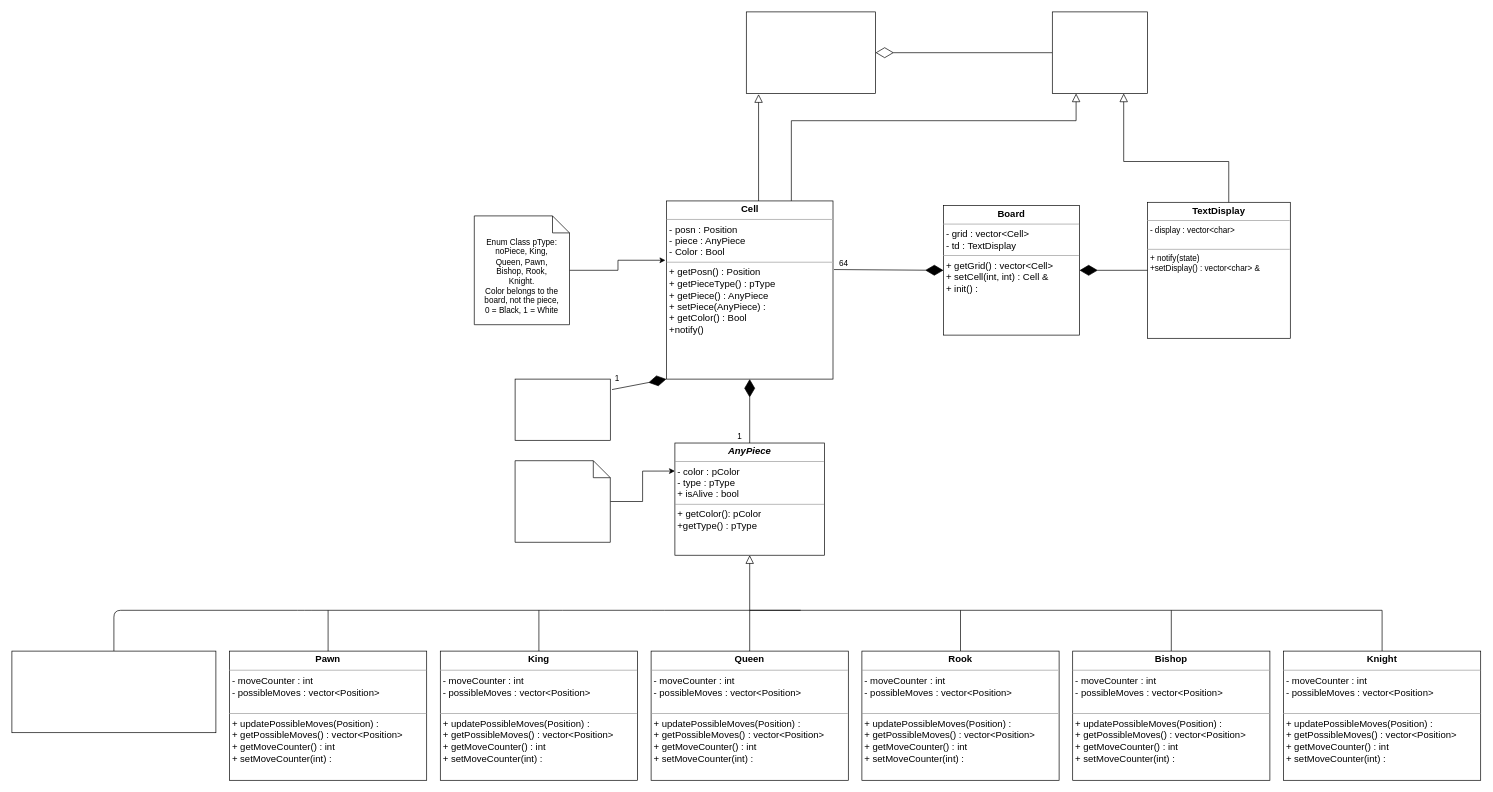
The diagram is 1493 pixels wide and 792 high, and some of its shapes have lost their labels. Each missing label, with the centre of its shape:
Enum Class pColor: Black White NoColor: (562,501)
NoPiece: (113,691)
Observer + notify(state): (1100,52)
Position + x : int + y : int: (562,409)
Subject + attach(Observer) + detach(Observer) # notifyObservers(): (811,52)
